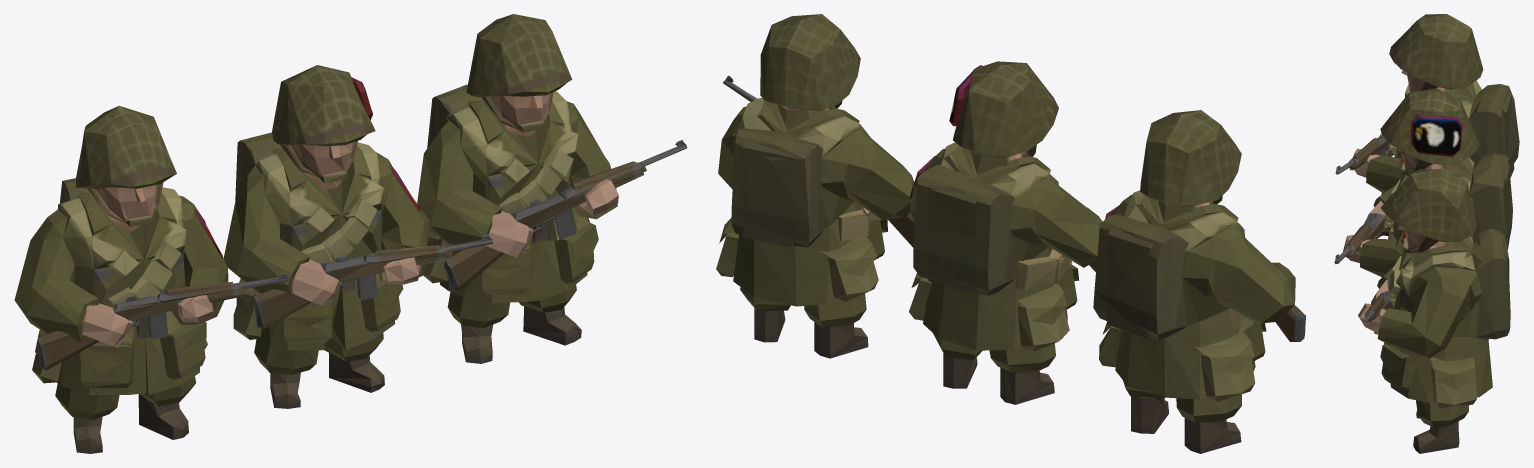
Rendered from bulge_us_airborne.glb.
The picture shows the model from 3 angles, left to right: view 1: azimuth 30°, elevation 25°; view 2: azimuth 150°, elevation 25°; view 3: azimuth 270°, elevation 25°; orthographic projection. The views are drawn at different scales.
Visible parts, largest first — view 1: figura; view 2: figura; view 3: figura.
Boxes of the visible parts, x1=… form: figura: x1=14, y1=14, x2=687, y2=453; figura: x1=716, y1=14, x2=1305, y2=453; figura: x1=1334, y1=14, x2=1519, y2=453.
Bounding box in the file's own units: 1.42 × 0.7187 × 0.4556.
Materials: 1 (1 with a texture image).
